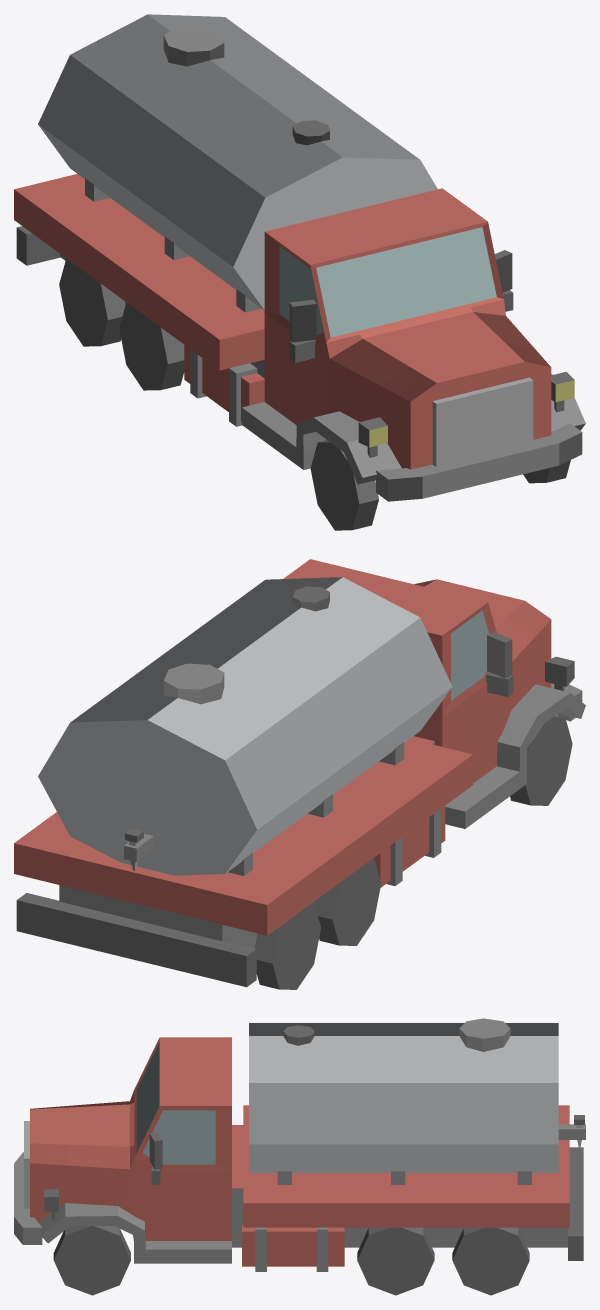
File: tanker.glb
The picture shows the model from 3 angles, top to bottom: view 1: azimuth 30°, elevation 25°; view 2: azimuth 150°, elevation 25°; view 3: azimuth 270°, elevation 25°; orthographic projection. The views are drawn at different scales.
Parts seen in each view (by area): view 1: tanker; view 2: tanker; view 3: tanker.
Boxes of the visible parts, x1=… form: tanker: x1=14, y1=14, x2=585, y2=530; tanker: x1=14, y1=559, x2=585, y2=989; tanker: x1=14, y1=1018, x2=585, y2=1295.
Size of the model in its own units: 4.42 by 4.74 by 10.89.
